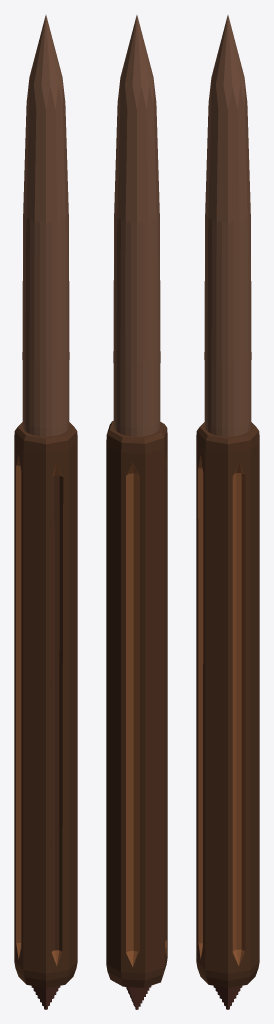
Rendered from Wand 504.glb.
The picture shows the model from 3 angles, left to right: view 1: azimuth 90°, elevation 25°; view 2: azimuth 150°, elevation 25°; view 3: azimuth 270°, elevation 25°; orthographic projection.
Parts seen in each view (by area): view 1: GeneratedWand; view 2: GeneratedWand; view 3: GeneratedWand.
Part boxes in pixels (x1,y1,x2,y2): GeneratedWand: (14, 15, 77, 1009); GeneratedWand: (106, 15, 167, 1009); GeneratedWand: (196, 15, 259, 1009).
Size of the model in its own units: 0.0289 by 0.4987 by 0.0289.
